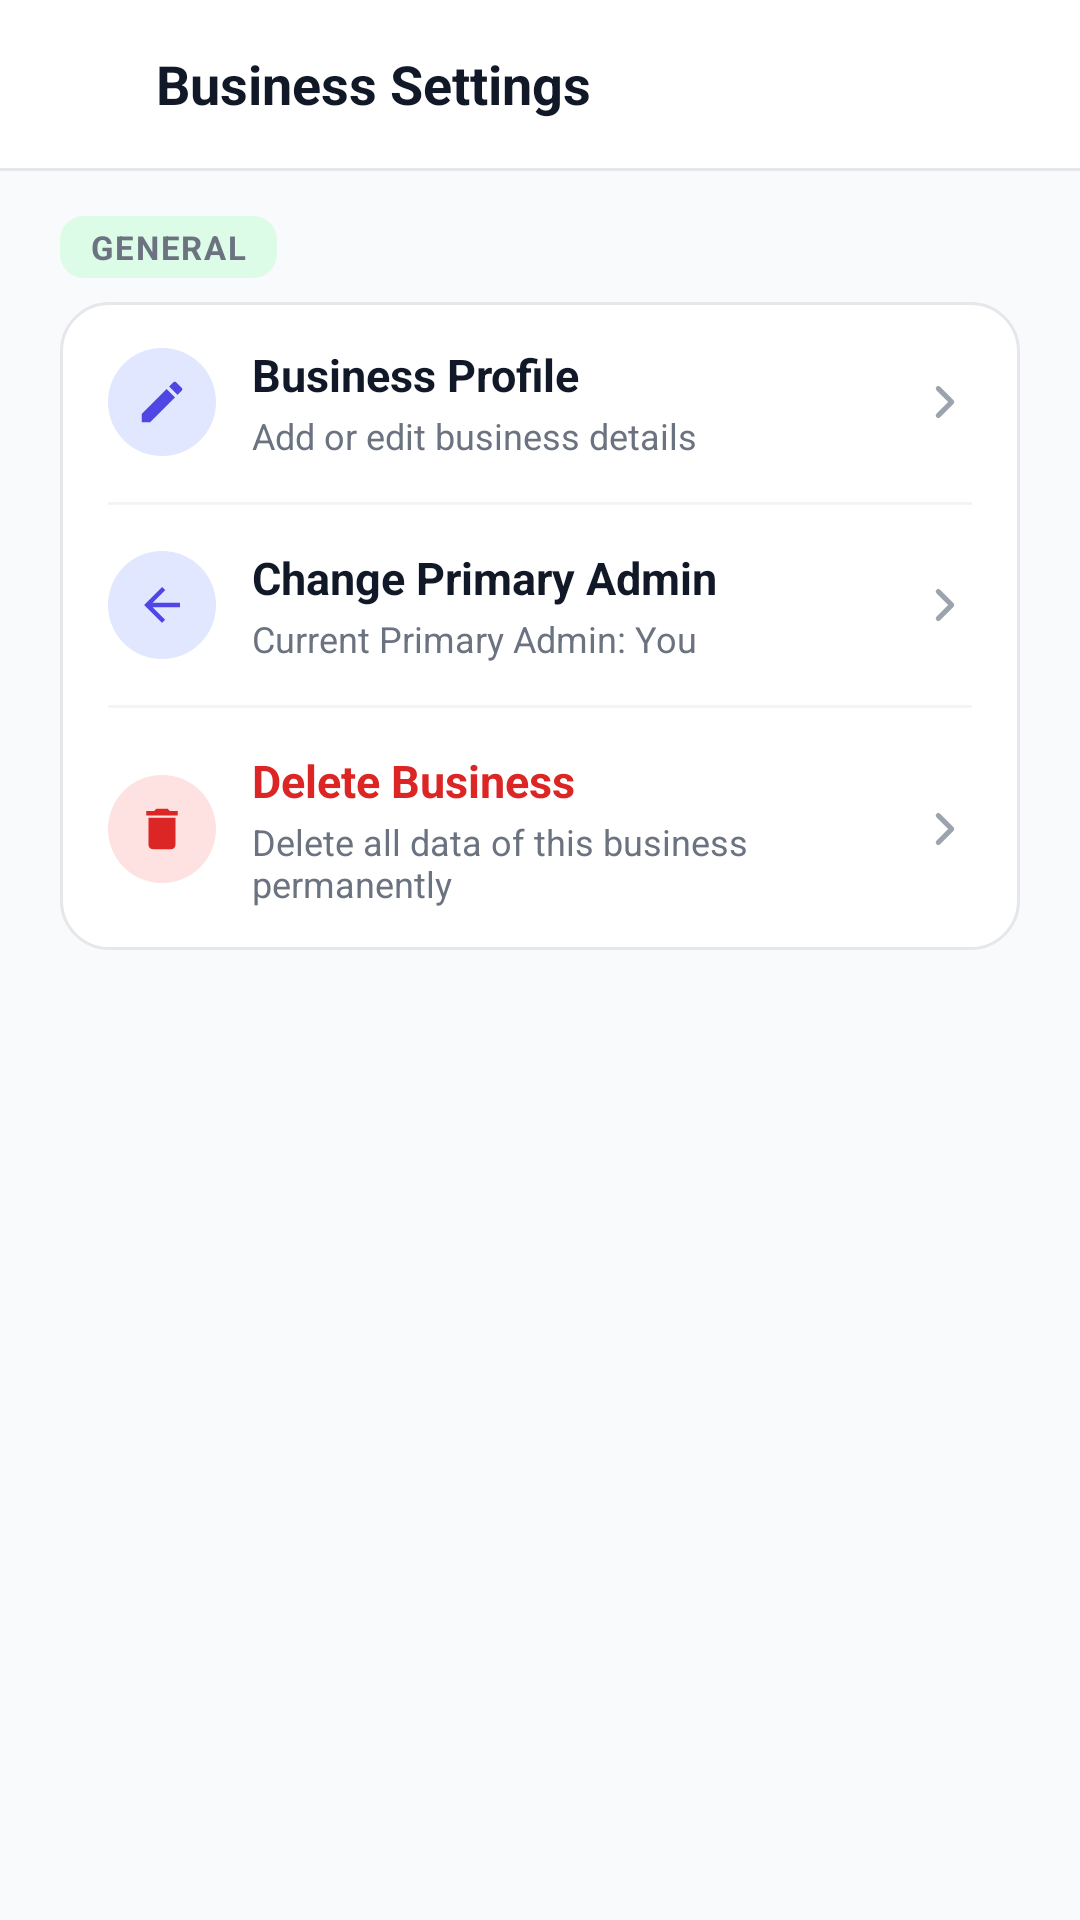

Locate icon controls on the screen. Image size 1080px×1920px, boxes as box=[x1, y1, x2, y2].
chevron right: box=[935, 386, 954, 418], box=[935, 589, 954, 621], box=[935, 813, 954, 845]
